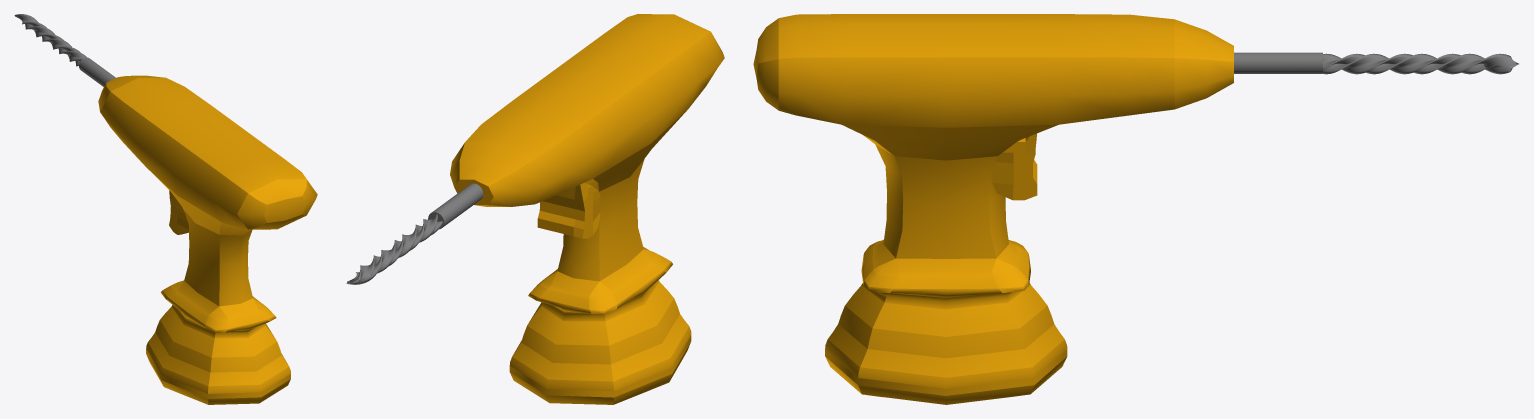
Rendered from bormasina.fbx.
3 views of the same model, side by side, from view 1: azimuth 30°, elevation 25°; view 2: azimuth 150°, elevation 25°; view 3: azimuth 270°, elevation 25° (orthographic). The views are drawn at different scales.
Parts seen in each view (by area): view 1: Cube.001, Cube; view 2: Cube.001, Cube; view 3: Cube.001, Cube.
Boxes of the visible parts, x1,y1,x2,y2 form: Cube.001: (98,75,317,404); Cube: (14,14,115,86); Cube.001: (450,14,724,404); Cube: (346,183,483,284); Cube.001: (753,14,1233,404); Cube: (1234,52,1518,74).
Bounding box in the file's own units: 297 × 620 × 1210.
